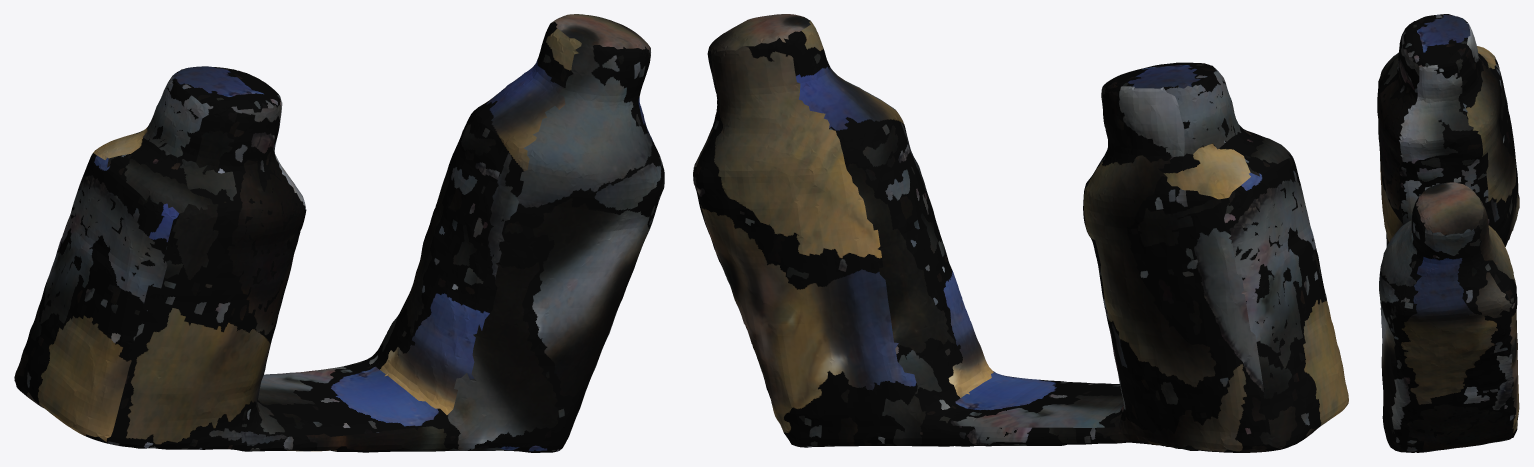
The model's file is center_mesh_bottle-dettol_washing_machine.obj.
The picture shows the model from 3 angles, left to right: view 1: azimuth 30°, elevation 25°; view 2: azimuth 150°, elevation 25°; view 3: azimuth 270°, elevation 25°; orthographic projection. The views are drawn at different scales.
Size of the model in its own units: 0.1801 by 0.1231 by 0.051.
